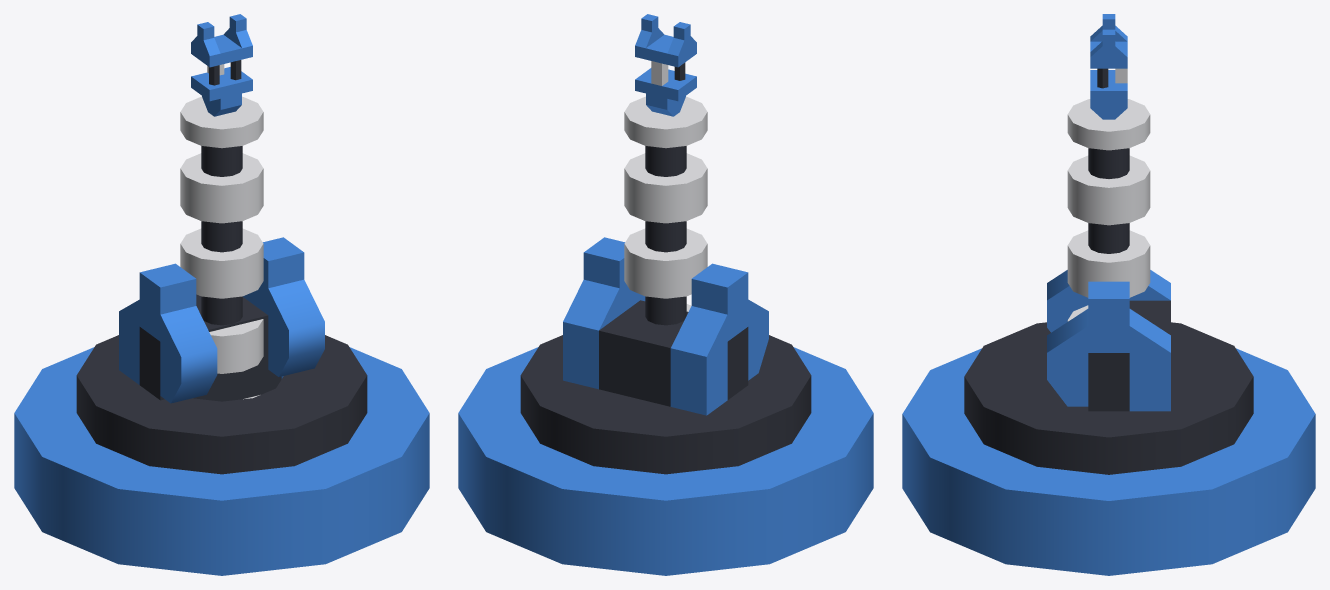
Rendered from ElectricTrigger.fbx.
The picture shows the model from 3 angles, left to right: view 1: azimuth 30°, elevation 25°; view 2: azimuth 150°, elevation 25°; view 3: azimuth 270°, elevation 25°; orthographic projection.
Visible parts, largest first — view 1: mergedBlocks; view 2: mergedBlocks; view 3: mergedBlocks.
Boxes of the visible parts, box(x1,y1,x2,y2) form: mergedBlocks: box(14, 14, 429, 575); mergedBlocks: box(458, 14, 873, 575); mergedBlocks: box(902, 14, 1315, 575).
Bounding box in the file's own units: 0.1 × 0.124 × 0.1.
